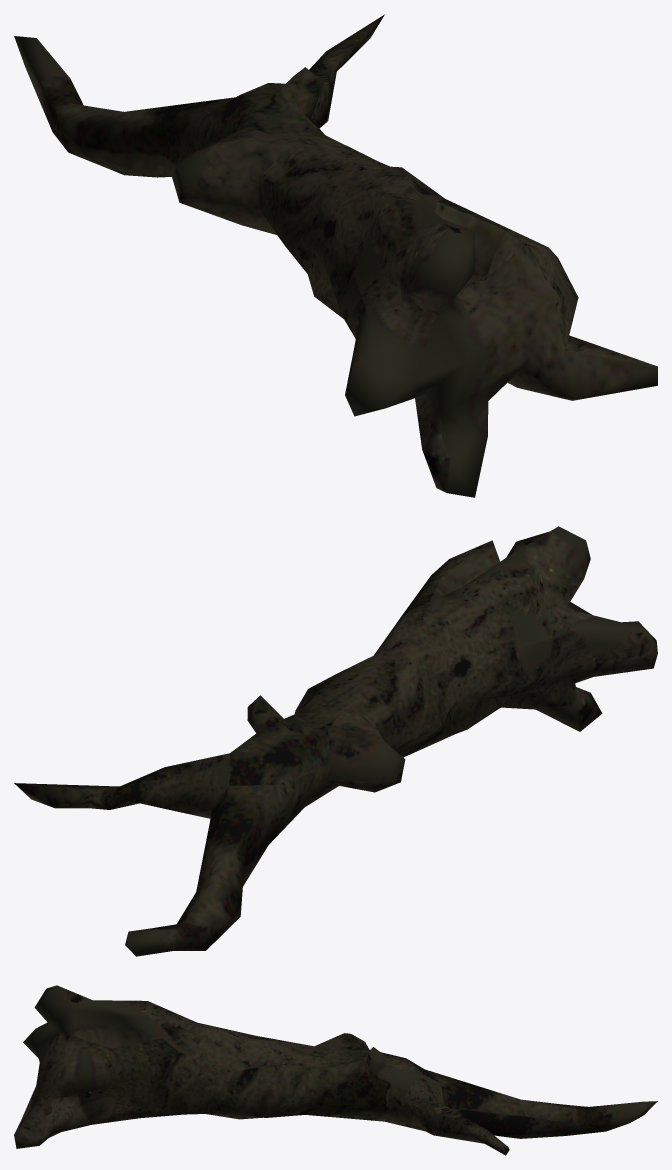
Rendered from deadtree1.glb.
The picture shows the model from 3 angles, top to bottom: view 1: azimuth 30°, elevation 25°; view 2: azimuth 150°, elevation 25°; view 3: azimuth 270°, elevation 25°; orthographic projection. The views are drawn at different scales.
Visible parts, largest first — view 1: DeadTree1; view 2: DeadTree1; view 3: DeadTree1.
Boxes of the visible parts, x1,y1,x2,y2 form: DeadTree1: (14, 14, 657, 497); DeadTree1: (14, 526, 657, 956); DeadTree1: (14, 985, 657, 1155).
Size of the model in its own units: 5.19 by 3.01 by 11.29.
Materials: 1 (1 with a texture image).
